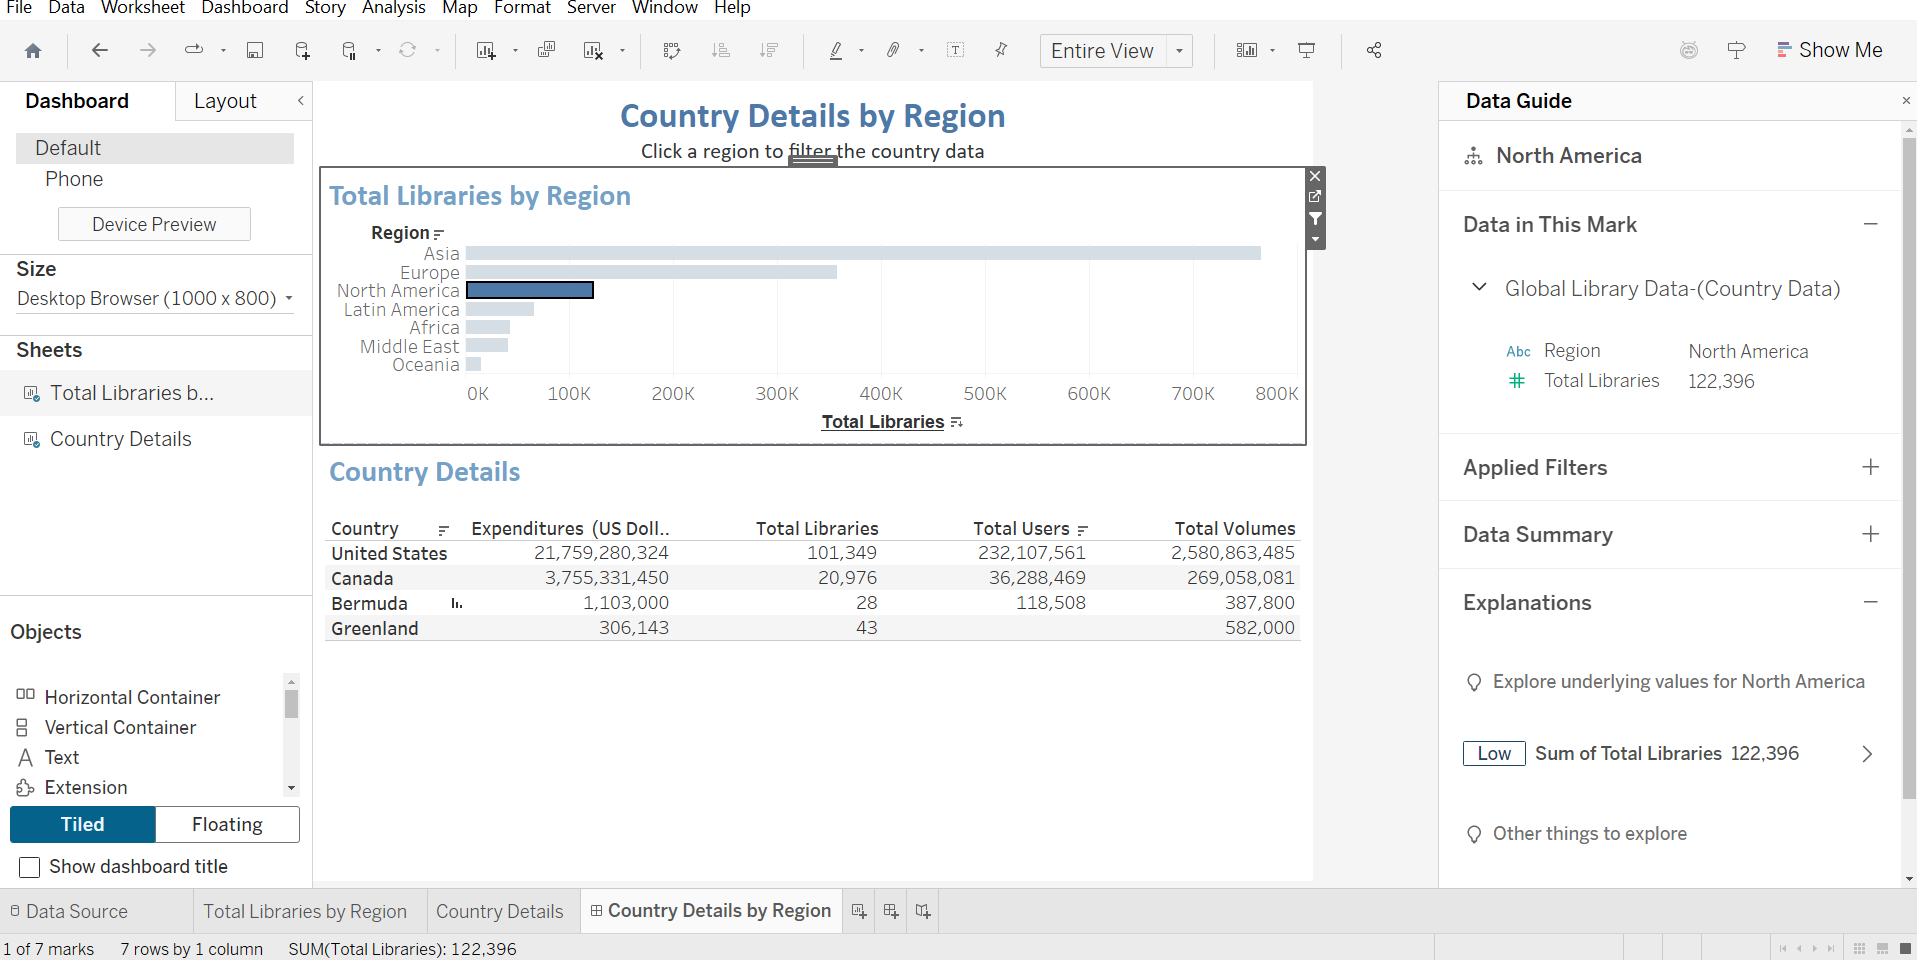

This screenshot's page, from the dashboard's own definition file:
{"tool":"tableau","page":{"name":"Country Details by Region","canvas":[1000,800],"ordinal":0},"visuals":[{"type":"title","box":[8,8,984,79]},{"type":"worksheet","title":"Total Libraries by Region","mark":"Automatic","rows":["Region"],"cols":["Total Libraries"],"box":[8,87,984,276]},{"type":"worksheet","title":"Country Details","mark":"Automatic","rows":["Country"],"box":[8,363,984,429]}]}

Visuals, with their boxes on the page's 1000x800 design canvas (x1, y1, x2, y2). These are canvas units, not pixel positions in the 1917x960 screenshot, which may show the page scaled, cropped or inside an application window:
title: [left=8, top=8, right=992, bottom=87]
"Total Libraries by Region" worksheet: [left=8, top=87, right=992, bottom=363]
"Country Details" worksheet: [left=8, top=363, right=992, bottom=792]
